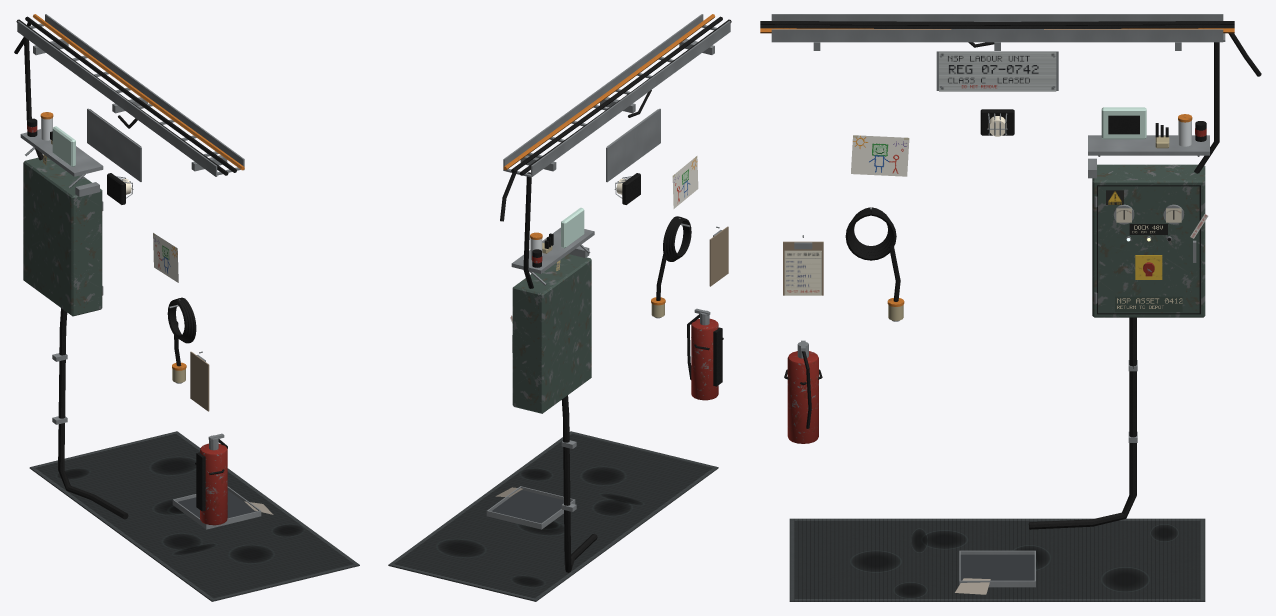
File: DockCornerV2.fbx
3 views of the same model, side by side, from view 1: azimuth 30°, elevation 25°; view 2: azimuth 150°, elevation 25°; view 3: azimuth 270°, elevation 25° (orthographic). The views are drawn at different scales.
Parts seen in each view (by area): view 1: ZD_FloorMat, ZD_Cabinet, ZD_CableTray, ZD_Extinguisher, ZD_Conduit, ZD_Spares, ZD_Plate, ZD_DripPan, ZD_Umbilical, ZD_Prints, ZD_Clipboard, ZD_Lamp; view 2: ZD_FloorMat, ZD_Cabinet, ZD_CableTray, ZD_Extinguisher, ZD_Conduit, ZD_Spares, ZD_DripPan, ZD_Plate, ZD_Umbilical, ZD_Prints, ZD_Clipboard, ZD_Lamp; view 3: ZD_FloorMat, ZD_Cabinet, ZD_CableTray, ZD_Prints, ZD_Spares, ZD_Conduit, ZD_DripPan, ZD_Extinguisher, ZD_Umbilical, ZD_Stencil, ZD_Lamp.
Boxes of the visible parts, x1,y1,x2,y2 form: ZD_FloorMat: [29, 431, 359, 601]; ZD_Cabinet: [23, 157, 103, 316]; ZD_CableTray: [14, 14, 244, 176]; ZD_Extinguisher: [195, 433, 227, 525]; ZD_Conduit: [24, 37, 137, 519]; ZD_Spares: [20, 112, 103, 187]; ZD_Plate: [87, 108, 141, 181]; ZD_DripPan: [172, 486, 273, 529]; ZD_Umbilical: [167, 297, 196, 383]; ZD_Prints: [43, 109, 178, 282]; ZD_Clipboard: [190, 351, 209, 411]; ZD_Lamp: [107, 173, 133, 204]; ZD_FloorMat: [388, 431, 718, 601]; ZD_Cabinet: [512, 246, 591, 413]; ZD_CableTray: [500, 14, 731, 221]; ZD_Extinguisher: [687, 308, 723, 400]; ZD_Conduit: [523, 90, 651, 572]; ZD_Spares: [511, 207, 594, 285]; ZD_DripPan: [486, 486, 575, 529]; ZD_Plate: [606, 108, 660, 182]; ZD_Umbilical: [651, 216, 691, 318]; ZD_Prints: [556, 109, 698, 270]; ZD_Clipboard: [709, 226, 728, 286]; ZD_Lamp: [614, 173, 640, 204]; ZD_FloorMat: [789, 518, 1205, 601]; ZD_Cabinet: [1088, 158, 1205, 317]; ZD_CableTray: [760, 14, 1261, 76]; ZD_Prints: [784, 51, 1167, 295]; ZD_Spares: [1088, 107, 1209, 156]; ZD_Conduit: [968, 42, 1219, 529]; ZD_DripPan: [955, 550, 1035, 594]; ZD_Extinguisher: [784, 340, 822, 443]; ZD_Umbilical: [845, 207, 904, 321]; ZD_Stencil: [1115, 296, 1182, 311]; ZD_Lamp: [980, 109, 1014, 135].
Size of the model in its own units: 0.903 by 2.46 by 2.22.
